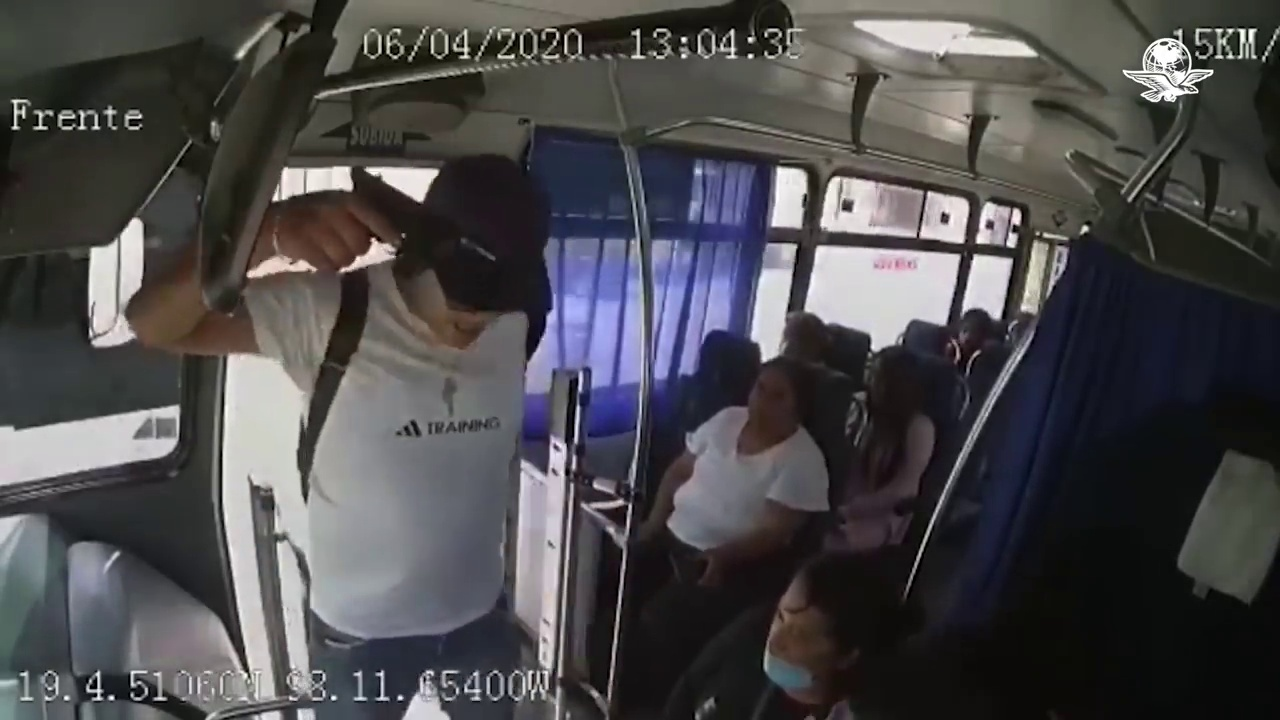pistol: (345, 161, 511, 283)
